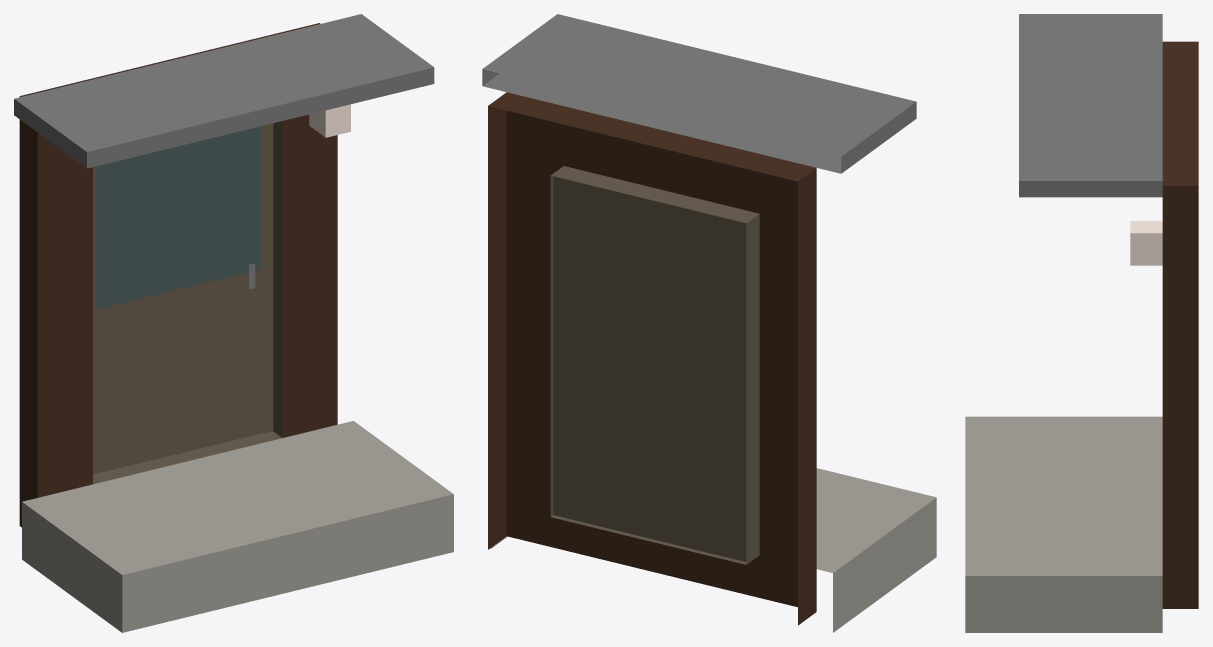
Rendered from entrance.fbx.
3 views of the same model, side by side, from view 1: azimuth 30°, elevation 25°; view 2: azimuth 150°, elevation 25°; view 3: azimuth 270°, elevation 25° (orthographic). The views are drawn at different scales.
Visible parts, largest first — view 1: a2015/800/entrance; view 2: a2015/800/entrance; view 3: a2015/800/entrance.
Boxes of the visible parts, left/top/right/bottom form: a2015/800/entrance: left=14, top=14, right=453, bottom=632; a2015/800/entrance: left=482, top=14, right=936, bottom=632; a2015/800/entrance: left=965, top=14, right=1198, bottom=632.
Bounding box in the file's own units: 2.2 × 2.8 × 1.3.
